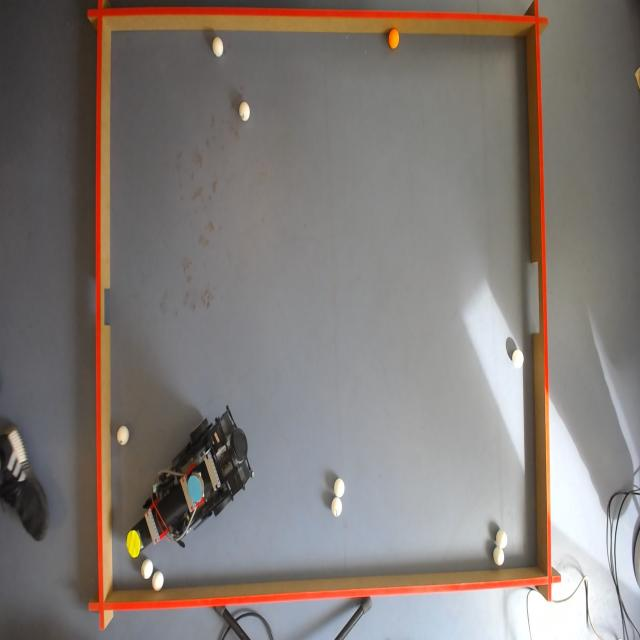orange: (389, 28, 402, 50)
robot: (126, 406, 256, 557)
robot-front: (124, 529, 142, 559)
robot-rear: (189, 470, 202, 506)
white: (511, 346, 525, 371), (213, 37, 227, 61), (238, 100, 252, 122), (152, 572, 166, 594), (140, 560, 154, 581), (117, 425, 129, 447), (334, 478, 347, 498), (493, 546, 505, 566), (332, 498, 344, 517), (496, 529, 508, 548)
